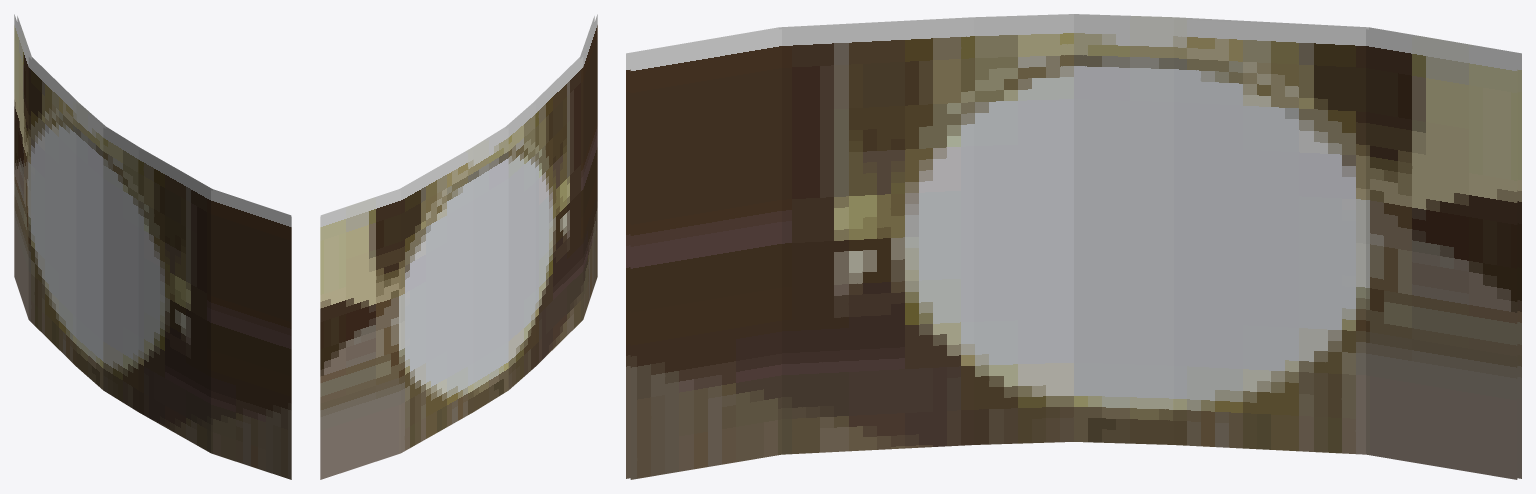
The model's file is Panda_starGlasses.obj.
3 renders of one model, left to right at view 1: azimuth 30°, elevation 25°; view 2: azimuth 150°, elevation 25°; view 3: azimuth 270°, elevation 25°, orthographic. The views are drawn at different scales.
Parts seen in each view (by area): view 1: Panda_starGlasses_tri; view 2: Panda_starGlasses_tri; view 3: Panda_starGlasses_tri.
Part boxes in pixels (x1,y1,x2,y2): Panda_starGlasses_tri: (14,14,291,479); Panda_starGlasses_tri: (320,14,597,479); Panda_starGlasses_tri: (626,14,1521,479).
Bounding box in the file's own units: 0.0339 × 0.1677 × 0.3196.
1 material, 1 textured.
